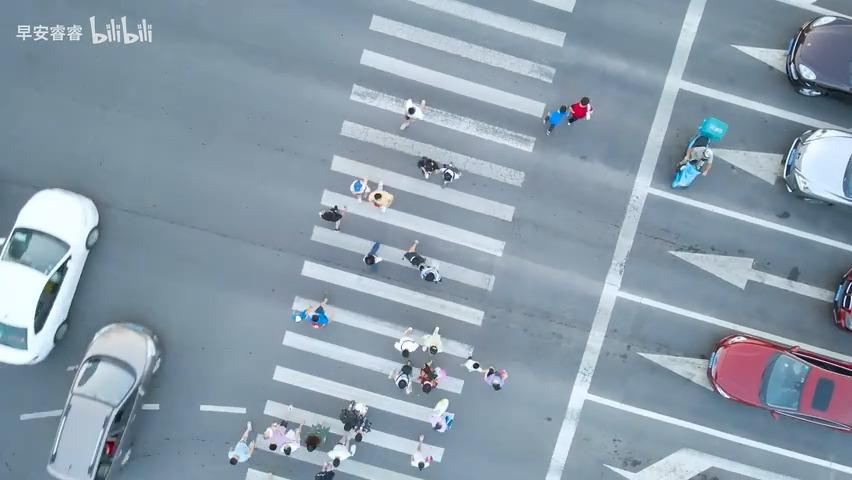Civilian: (671, 145, 713, 189), (338, 400, 370, 445), (290, 292, 329, 328), (227, 420, 255, 464), (326, 433, 356, 467), (409, 433, 433, 471), (281, 418, 305, 455), (399, 98, 426, 130), (566, 96, 593, 126), (393, 326, 419, 357), (542, 104, 567, 136), (262, 419, 287, 451), (417, 360, 439, 393), (401, 239, 426, 268), (429, 398, 450, 432), (319, 204, 346, 230), (394, 359, 414, 394), (310, 292, 329, 328), (421, 326, 443, 355), (437, 161, 461, 187), (368, 189, 393, 212), (484, 366, 507, 390), (349, 176, 370, 201), (417, 155, 438, 179), (362, 241, 382, 266), (418, 263, 442, 283), (290, 303, 313, 322), (314, 461, 335, 479)
